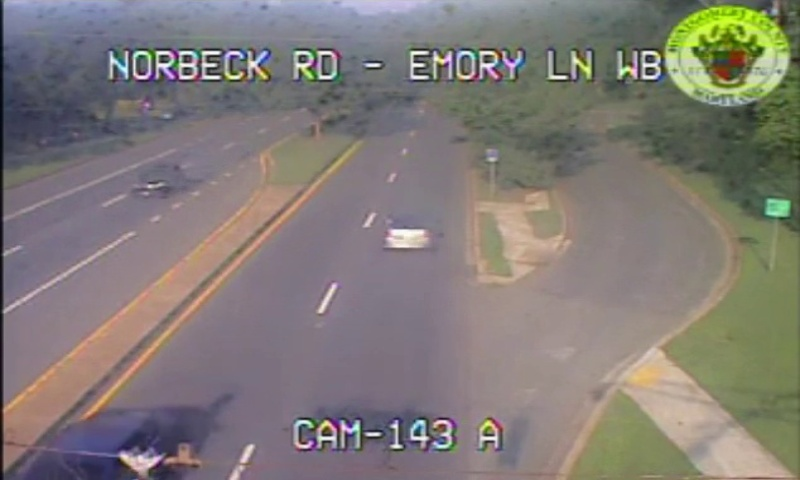car: (386, 222, 434, 248)
